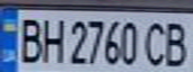0: (118, 17, 142, 68)
2: (66, 16, 87, 65)
6: (103, 17, 124, 66)
7: (84, 16, 106, 65)
B: (160, 17, 193, 69), (12, 13, 45, 64)
C: (142, 18, 172, 69)
H: (36, 15, 66, 64)
